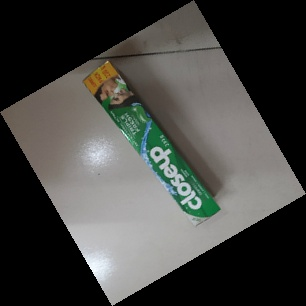CloseUp Xanh: (80, 60, 220, 229)
